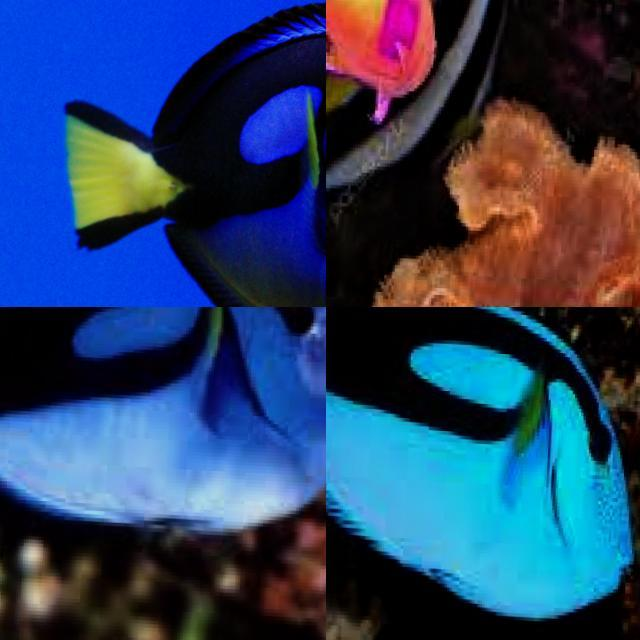BlueTang: (326, 307, 640, 640), (65, 1, 326, 307), (3, 307, 326, 530)
